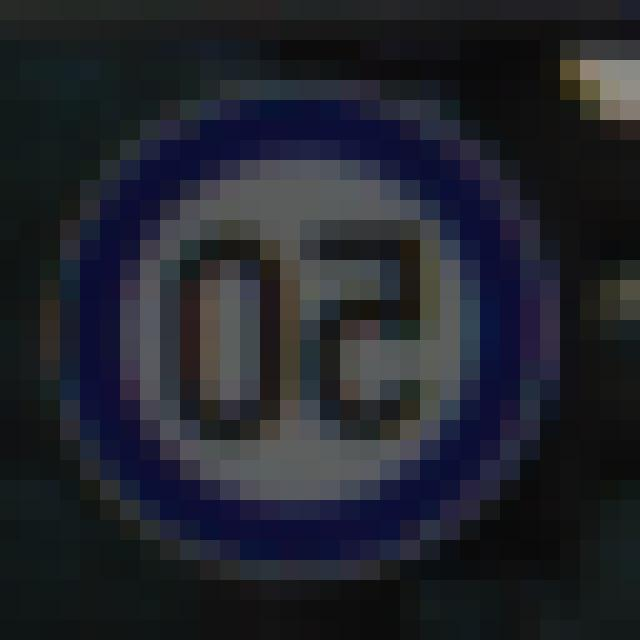SPEED LIMIT 50: (94, 136, 520, 554)
